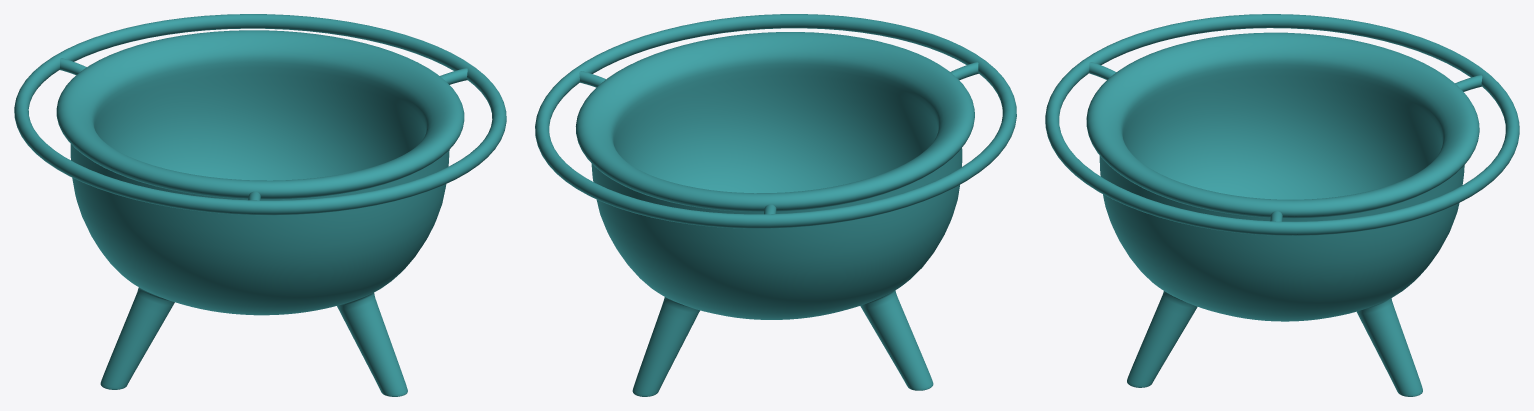
File: Tong.fbx
3 renders of one model, left to right at view 1: azimuth 30°, elevation 25°; view 2: azimuth 150°, elevation 25°; view 3: azimuth 270°, elevation 25°, orthographic. The views are drawn at different scales.
Parts seen in each view (by area): view 1: 20845_Deep_basin_fire_pit_v2; view 2: 20845_Deep_basin_fire_pit_v2; view 3: 20845_Deep_basin_fire_pit_v2.
Part boxes in pixels (left/top/right/bottom): 20845_Deep_basin_fire_pit_v2: left=14, top=14, right=506, bottom=396; 20845_Deep_basin_fire_pit_v2: left=535, top=14, right=1016, bottom=396; 20845_Deep_basin_fire_pit_v2: left=1045, top=14, right=1519, bottom=396.
Size of the model in its own units: 910 by 529 by 910.
